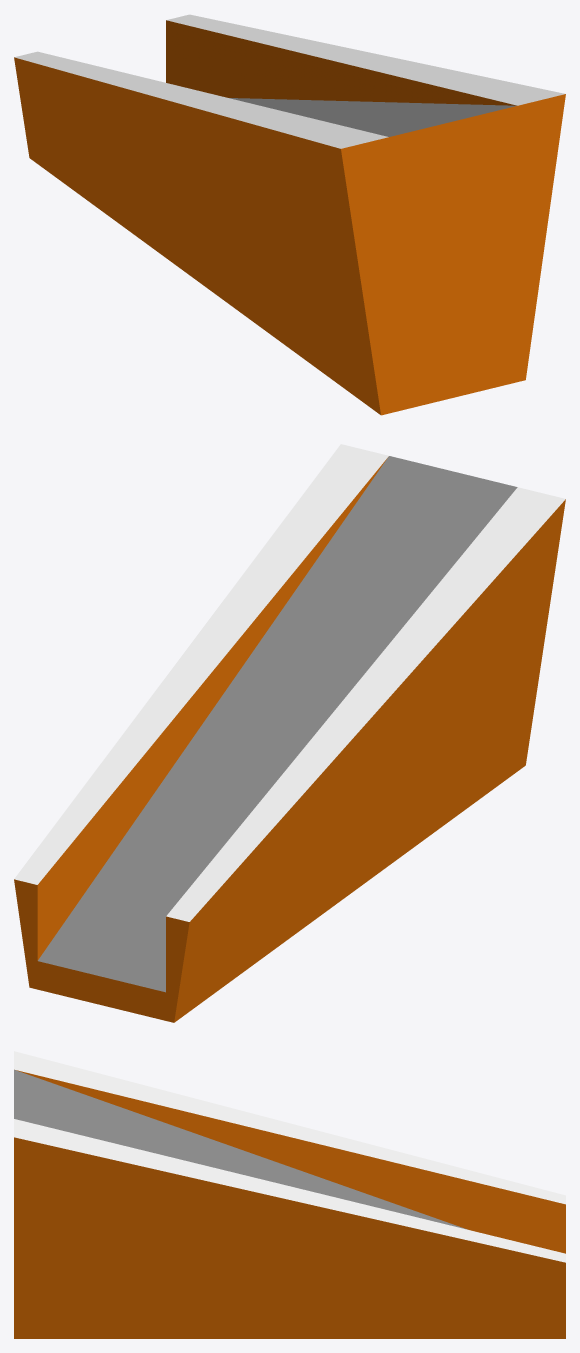
File: CageARampB.fbx
3 renders of one model, top to bottom at view 1: azimuth 30°, elevation 25°; view 2: azimuth 150°, elevation 25°; view 3: azimuth 270°, elevation 25°, orthographic. The views are drawn at different scales.
Visible parts, largest first — view 1: CageARampB; view 2: CageARampB; view 3: CageARampB.
Part boxes in pixels (<box>): CageARampB: <box>14,14,565,415</box>; CageARampB: <box>14,444,565,1022</box>; CageARampB: <box>14,1051,565,1338</box>.
Size of the model in its own units: 1103 by 1294 by 2985.
1 material, 1 textured.
